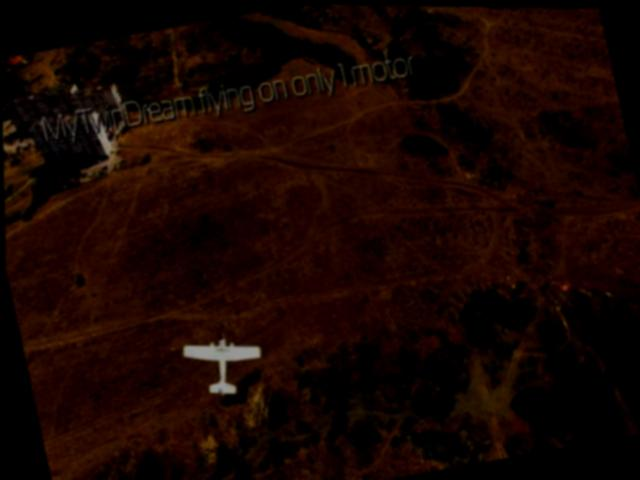uav: (167, 304, 275, 412)
